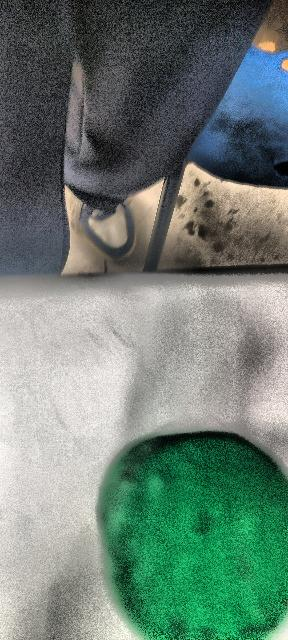green: (98, 428, 286, 638)
